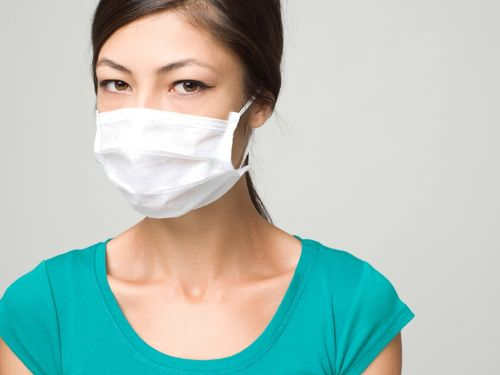mask: (96, 18, 271, 211)
